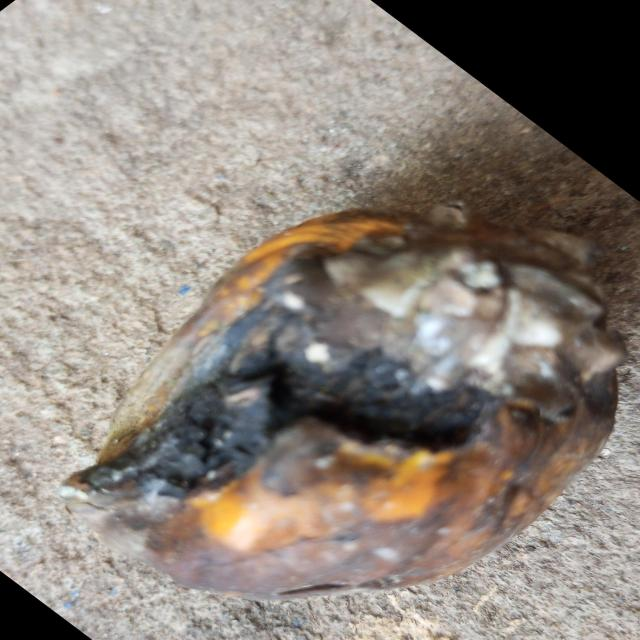damaged: (61, 203, 625, 600)
